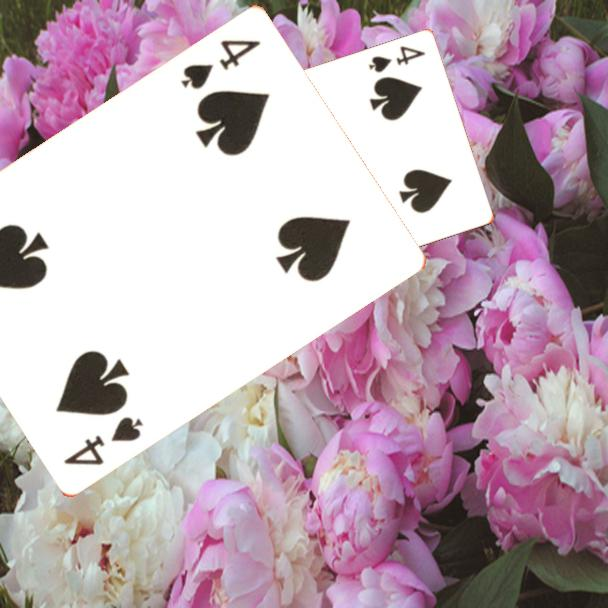s04: (177, 36, 264, 94), (60, 413, 146, 469), (365, 43, 428, 76)
